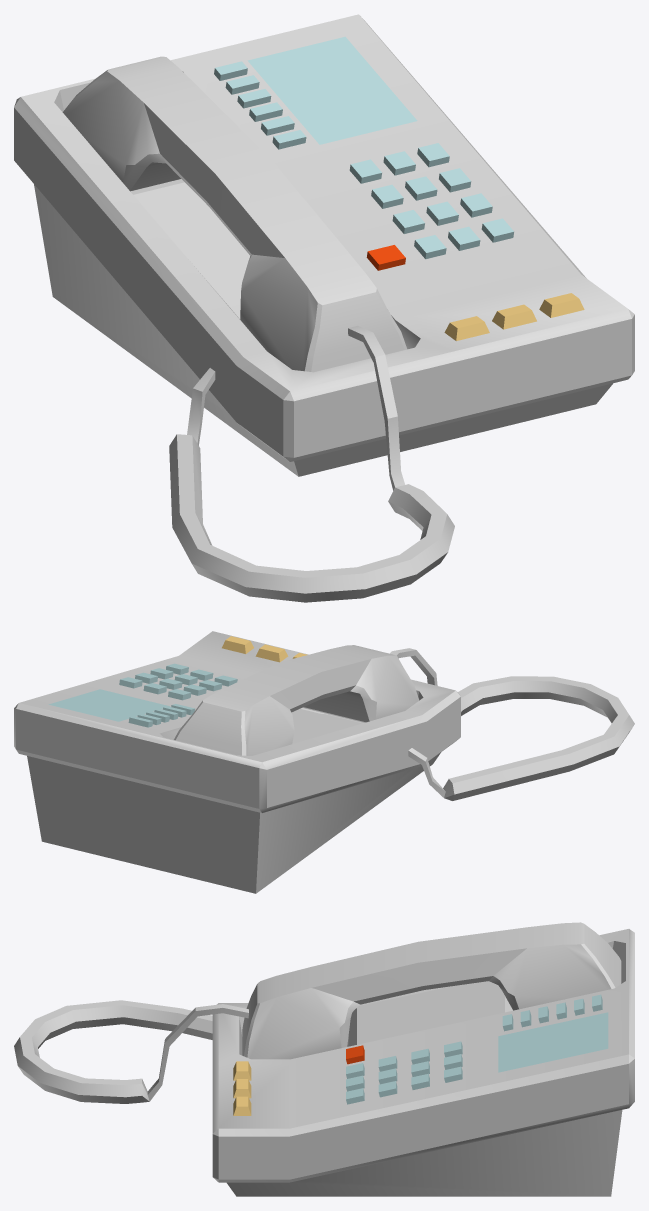
Rendered from tel.FBX.
3 renders of one model, top to bottom at view 1: azimuth 30°, elevation 25°; view 2: azimuth 150°, elevation 25°; view 3: azimuth 270°, elevation 25°, orthographic. The views are drawn at different scales.
Parts seen in each view (by area): view 1: WHITE; view 2: WHITE; view 3: WHITE.
Part boxes in pixels (bbox=[...]): WHITE: bbox=[14, 14, 634, 602]; WHITE: bbox=[14, 631, 634, 893]; WHITE: bbox=[14, 922, 634, 1196].
Size of the model in its own units: 203 by 88.45 by 282.
